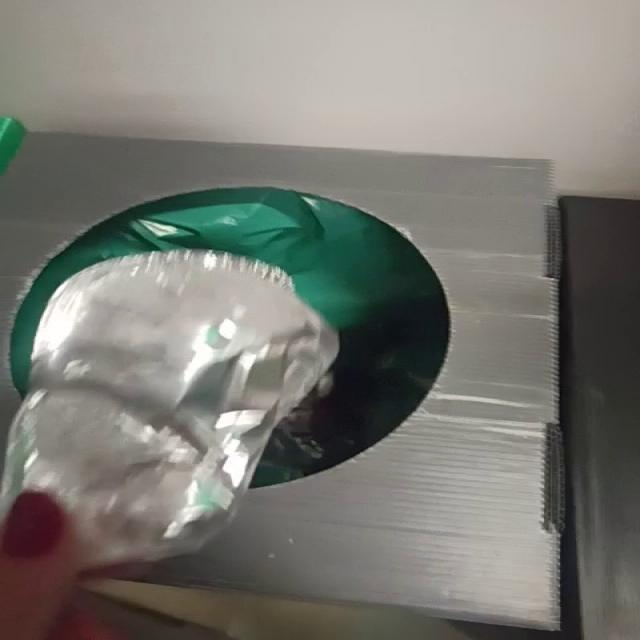Bin: (1, 134, 561, 630)
Metal: (1, 250, 339, 566)
